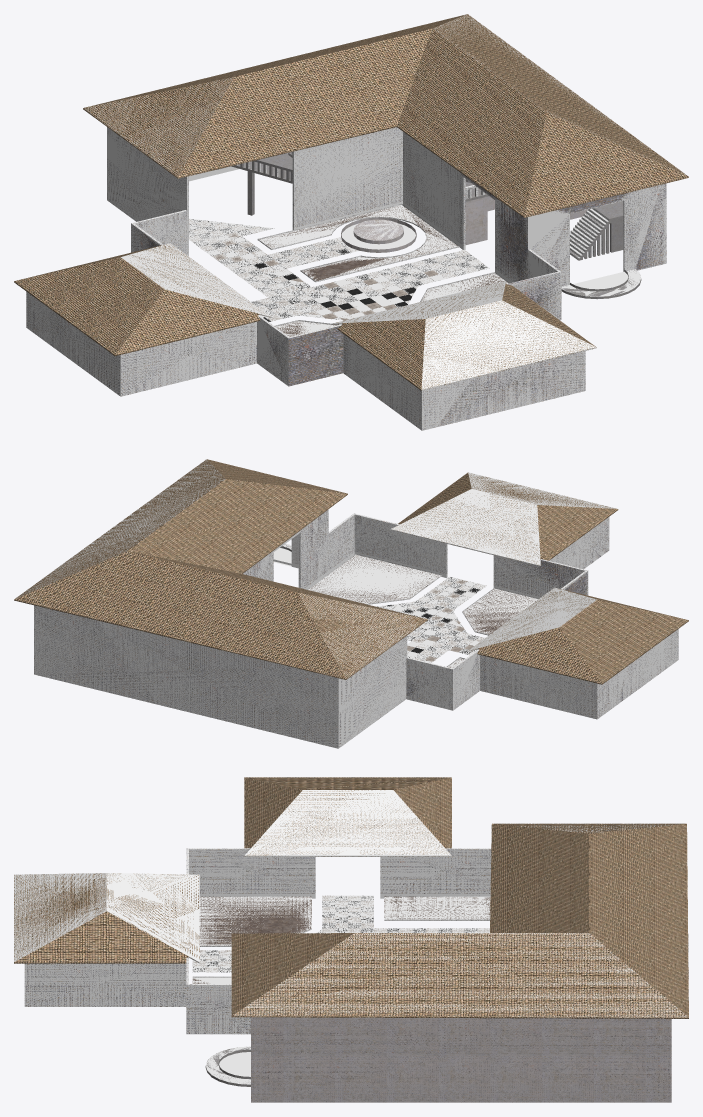
File: Newcomers_Guild_Component.dae
3 renders of one model, top to bottom at view 1: azimuth 30°, elevation 25°; view 2: azimuth 150°, elevation 25°; view 3: azimuth 270°, elevation 25°, orthographic. The views are drawn at different scales.
Parts seen in each view (by area): view 1: Newcomers_Guild (×13); view 2: Newcomers_Guild (×7); view 3: Newcomers_Guild (×9).
Boxes of the visible parts, x1,y1,x2,y2 form: Newcomers_Guild (×13): (14, 14, 688, 430); Newcomers_Guild (×7): (14, 459, 688, 748); Newcomers_Guild (×9): (14, 777, 688, 1102).
Size of the model in its own units: 2054 by 2054 by 453.
Materials: 9 (8 with a texture image).
